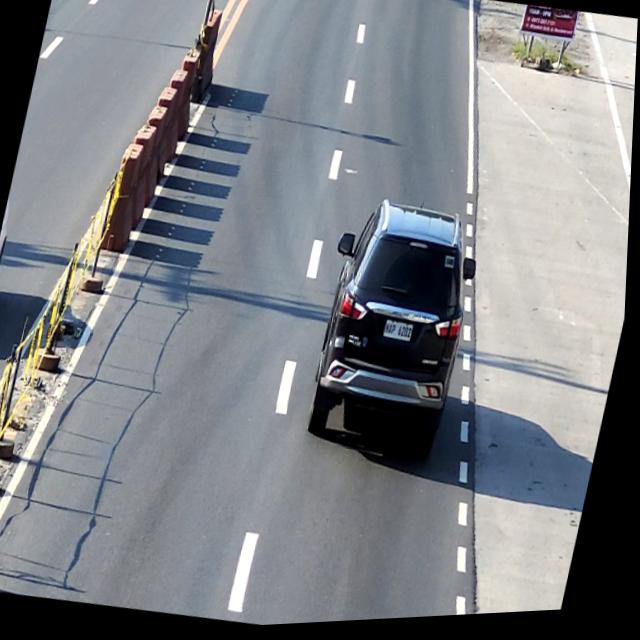Car: (299, 192, 494, 464)
License-Plate: (386, 322, 418, 347)
